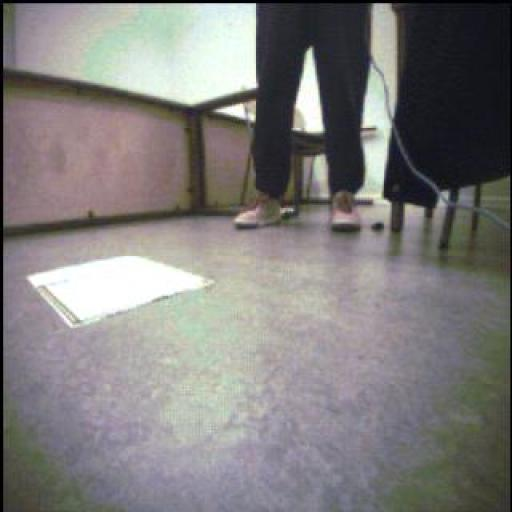Pad: (28, 257, 214, 327)
